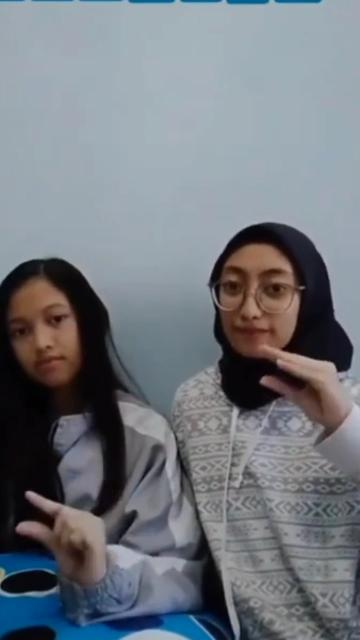G: (245, 340, 351, 426), (14, 489, 108, 576)
